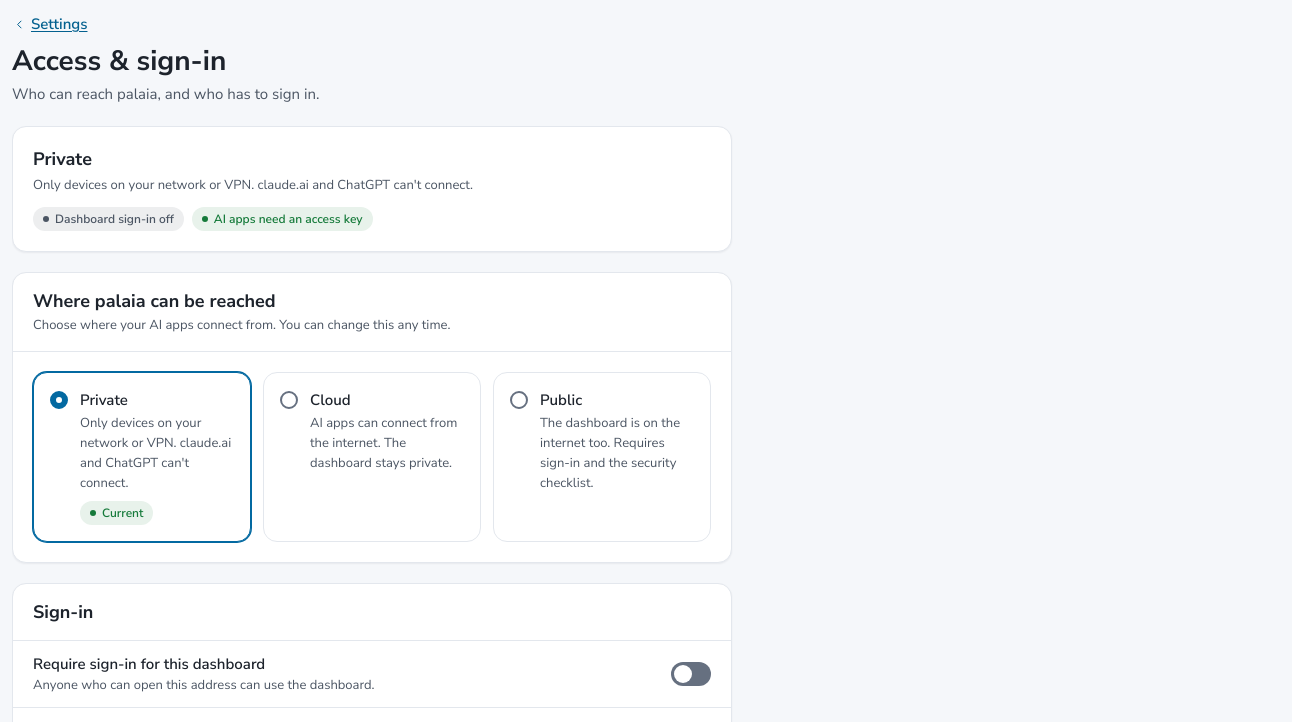
Test: Access & sign-in: the two sign-in switches (issue 571, report §5.2) › turns on the dashboard's sign-in with its sign-in server, then offers the restart
Click the switch named "Require sign-in for this dashboard" in the row of "Require sign-in for this dashboard" at coordinates (691, 674), box [671,662,711,686]
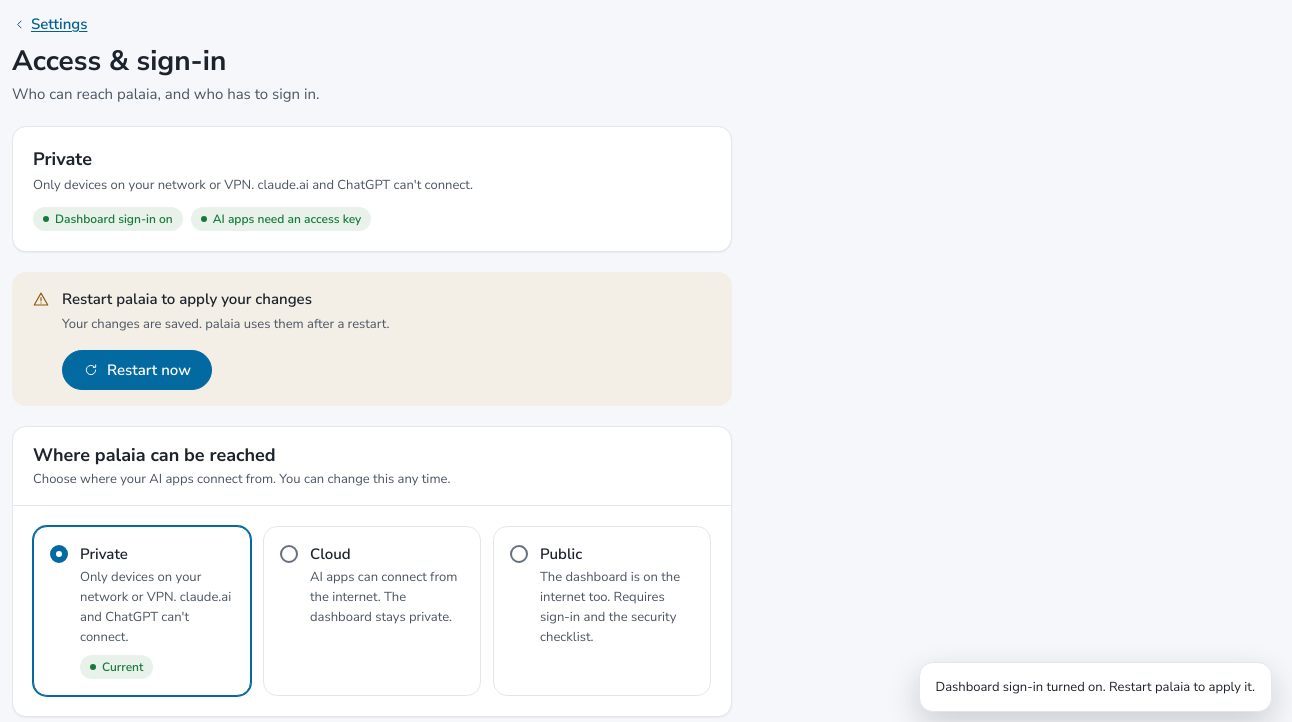
Check: the text "Restart palaia to apply your changes" is shown, box [62,289,312,309]
Check: the button "Restart now" is shown, box [62,350,212,390]
